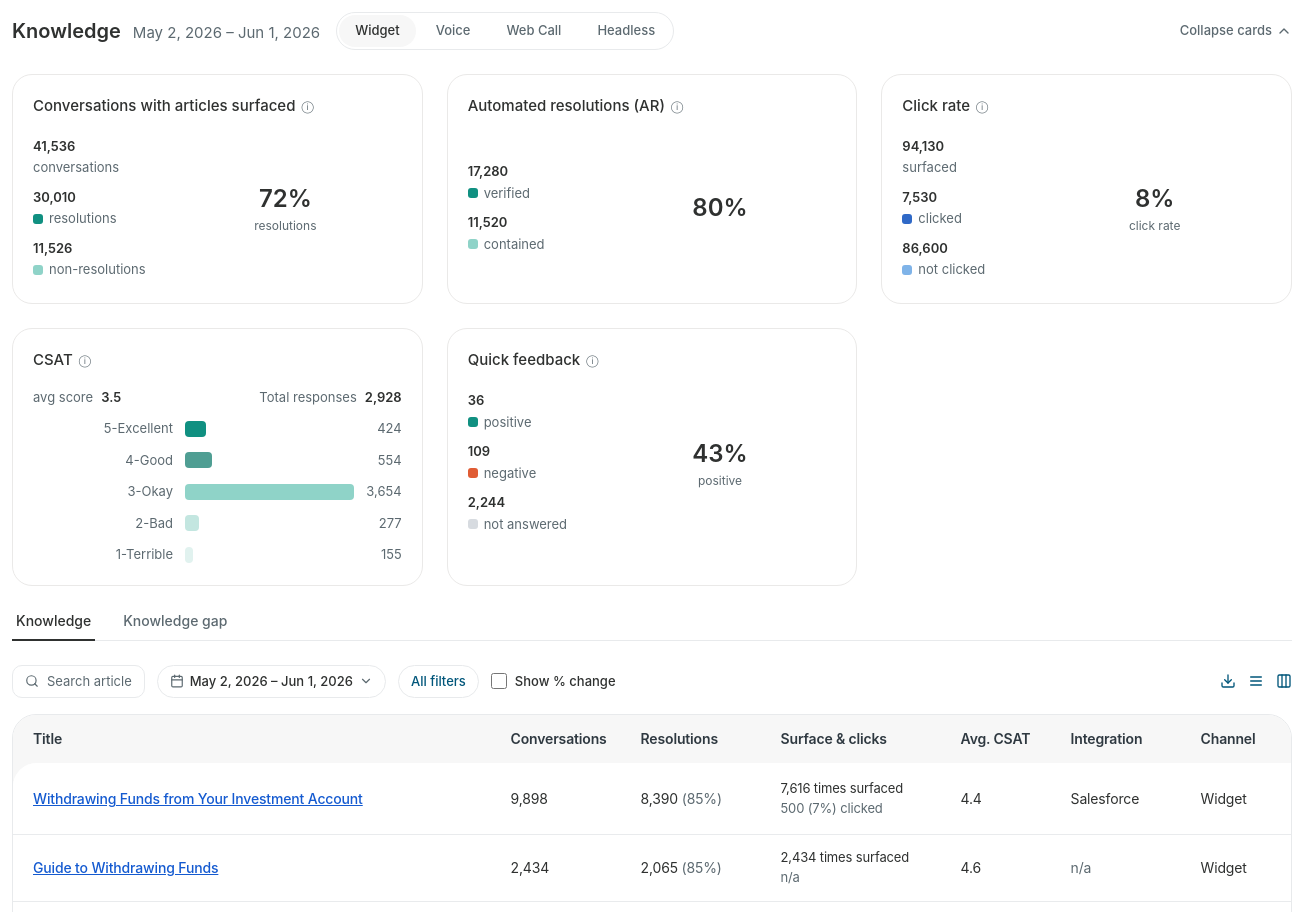
Test: KnowledgeView › hides and restores the card grid
Click the button "Collapse cards" at (1236, 31), box left=1180, top=21, right=1292, bottom=40
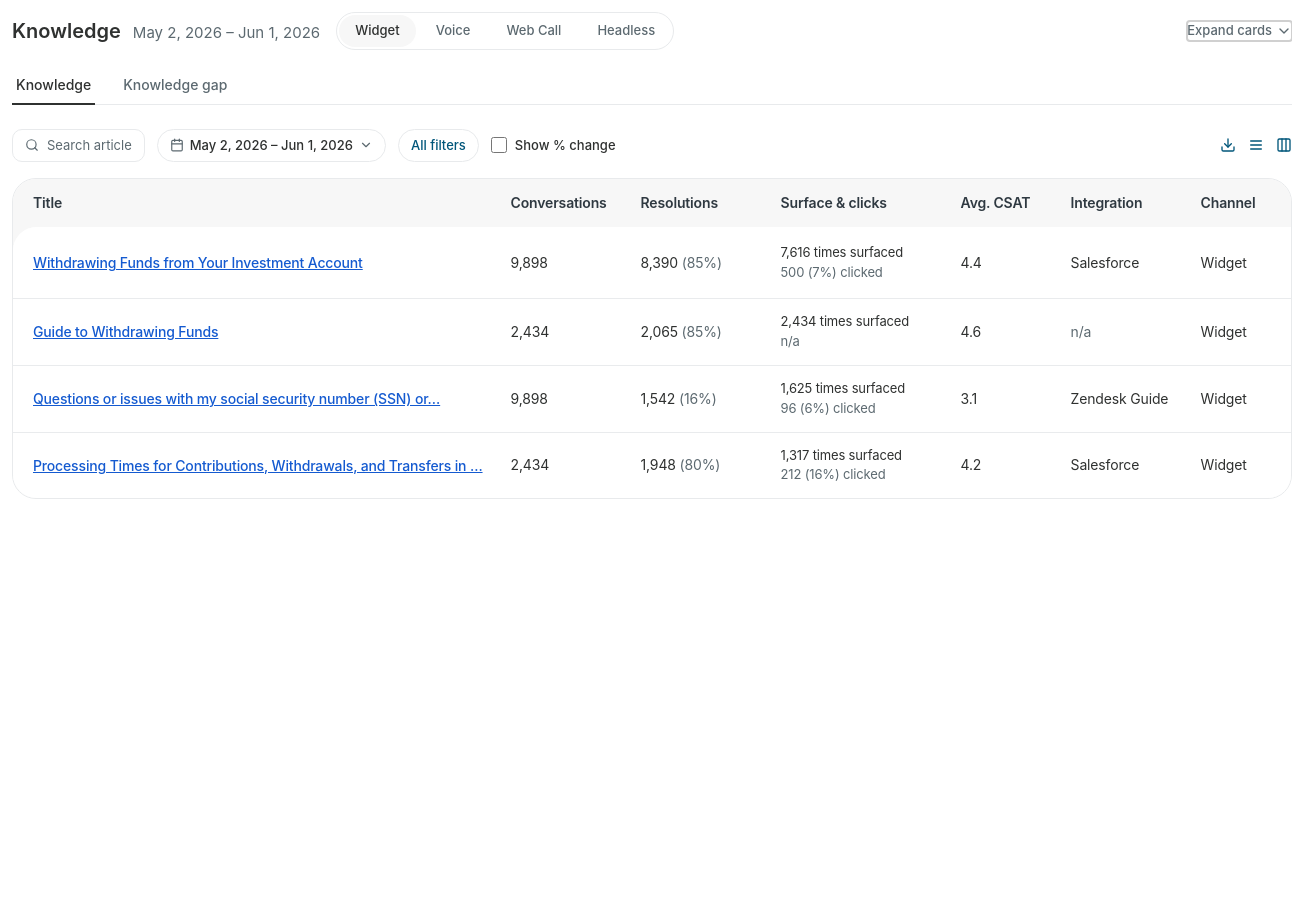
Expected: the heading "Click rate" is gone
Click the button "Expand cards" at (1240, 31), box left=1187, top=21, right=1292, bottom=40
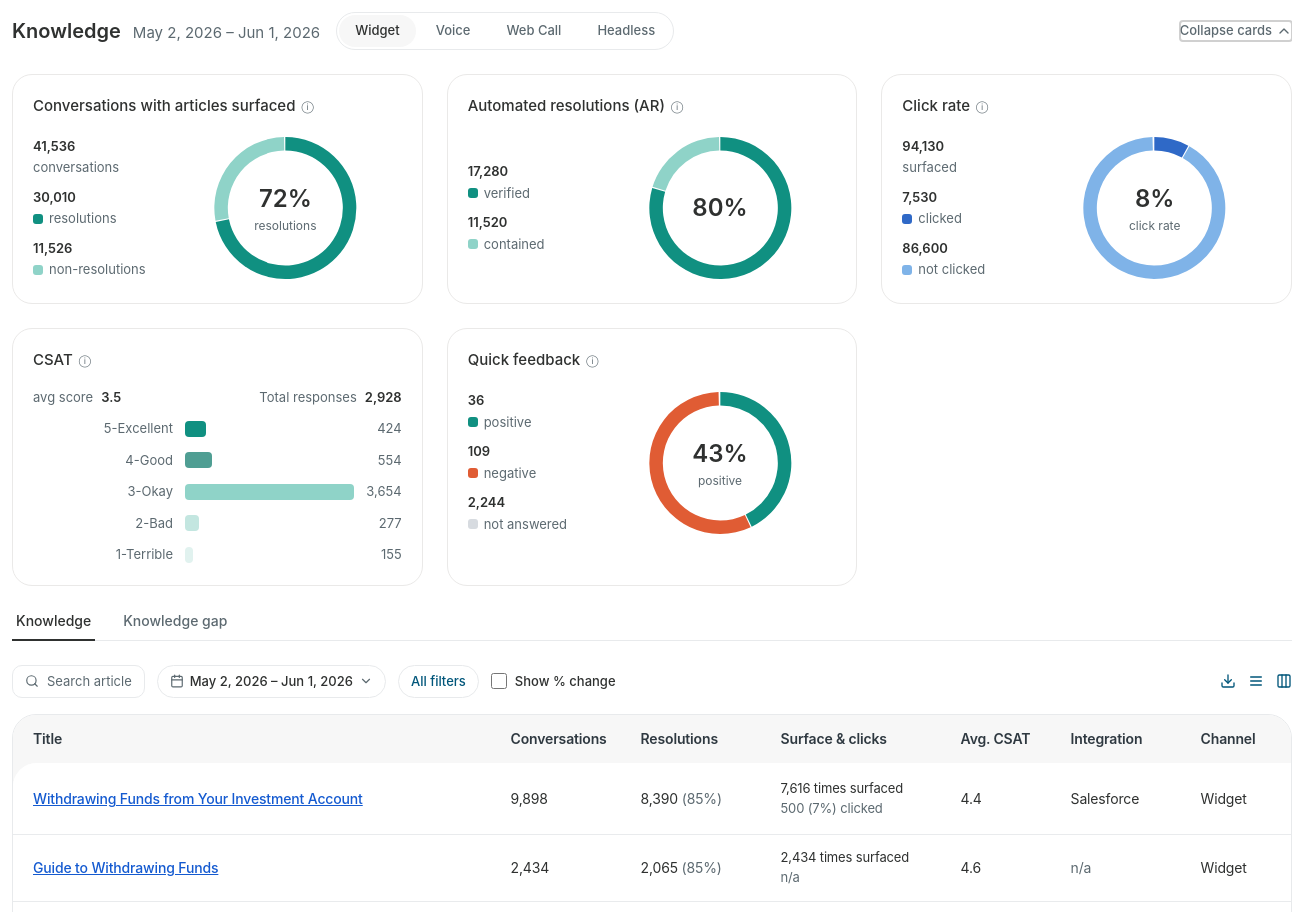
Expected: the heading "Click rate ⓘ" is shown, left=902, top=96, right=988, bottom=114
